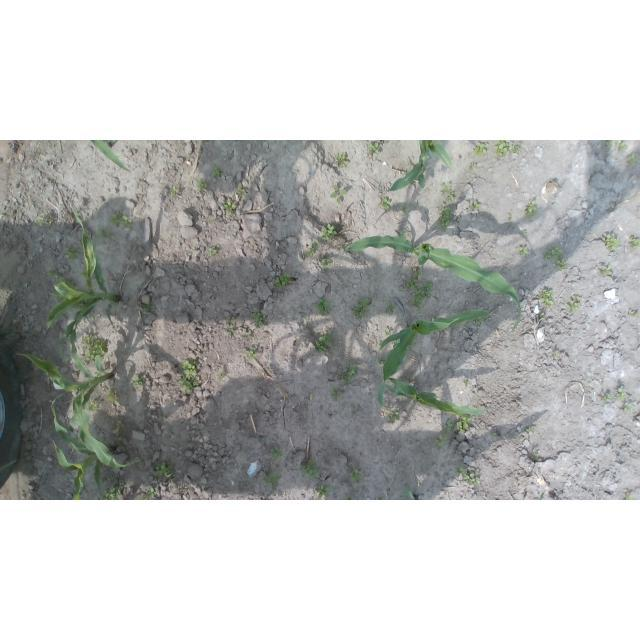Maize: (18, 302, 140, 469), (335, 230, 521, 328), (378, 309, 501, 411), (45, 207, 119, 365), (49, 393, 118, 500), (385, 377, 494, 419), (375, 140, 455, 190), (90, 140, 131, 173), (402, 484, 419, 500)
Weeds: (178, 359, 200, 394), (410, 281, 434, 311), (81, 335, 108, 361), (456, 465, 480, 486), (109, 209, 133, 229), (351, 298, 369, 320), (437, 204, 451, 232), (299, 458, 318, 478), (315, 332, 333, 352), (251, 309, 268, 330), (340, 364, 357, 384), (493, 141, 513, 158), (536, 289, 554, 307), (320, 223, 337, 242), (101, 486, 124, 500), (315, 299, 332, 317), (602, 233, 619, 251), (155, 462, 174, 478), (441, 182, 456, 202), (275, 273, 292, 290), (456, 415, 472, 433), (93, 226, 111, 242), (35, 213, 53, 229), (331, 185, 346, 204), (545, 245, 564, 260), (566, 296, 582, 313), (59, 276, 78, 290), (264, 472, 281, 487), (131, 374, 146, 390), (314, 486, 331, 500), (305, 240, 319, 256), (525, 201, 538, 218), (473, 141, 488, 155), (64, 247, 80, 260), (616, 386, 628, 402), (224, 201, 237, 215), (386, 410, 400, 423), (271, 446, 284, 460), (350, 468, 363, 482), (142, 487, 156, 499), (330, 386, 342, 400), (335, 152, 347, 166), (226, 317, 235, 335), (104, 390, 116, 403), (598, 266, 612, 277), (406, 278, 418, 290), (435, 435, 447, 447), (367, 142, 379, 154), (235, 185, 246, 198), (86, 402, 99, 413), (381, 198, 392, 211), (141, 302, 155, 312), (444, 419, 453, 434), (385, 303, 396, 315), (322, 256, 333, 268), (211, 167, 223, 178), (198, 180, 209, 192), (169, 186, 180, 198), (78, 299, 91, 309), (247, 349, 258, 360), (627, 153, 638, 164), (623, 404, 635, 414), (557, 259, 568, 269), (630, 237, 640, 248), (470, 201, 481, 210), (209, 246, 218, 256), (48, 269, 58, 278), (617, 142, 627, 151), (474, 318, 484, 327), (412, 268, 422, 277), (520, 247, 529, 256), (115, 421, 124, 430), (603, 393, 612, 401), (513, 144, 521, 153), (400, 204, 409, 212), (525, 427, 535, 434), (629, 310, 640, 316), (530, 453, 539, 460), (463, 379, 472, 386), (117, 437, 127, 443), (469, 164, 477, 171), (345, 495, 356, 500), (217, 370, 223, 379), (392, 338, 401, 344), (625, 494, 634, 500), (605, 141, 615, 146), (245, 331, 251, 339), (94, 371, 102, 377), (552, 351, 558, 359), (384, 329, 390, 336), (410, 340, 416, 347), (521, 230, 527, 236), (540, 312, 545, 318), (303, 405, 308, 411), (352, 410, 357, 414), (492, 433, 496, 437)
